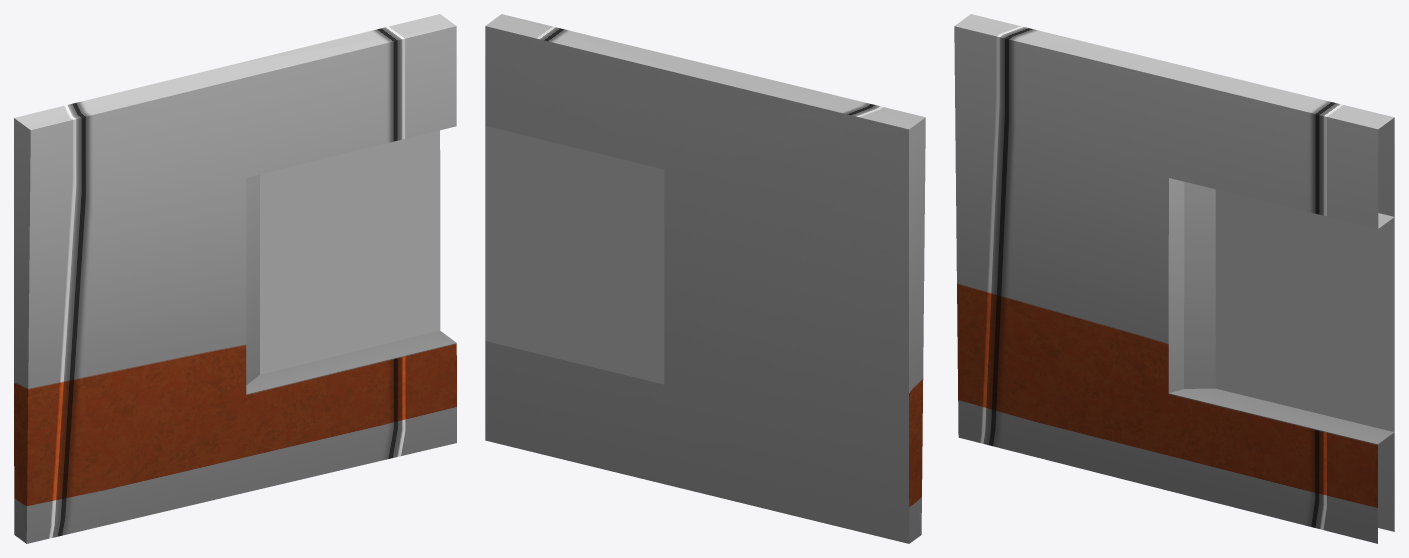
Rendered from Wall Right.fbx.
The picture shows the model from 3 angles, left to right: view 1: azimuth 30°, elevation 25°; view 2: azimuth 150°, elevation 25°; view 3: azimuth 330°, elevation 25°; orthographic projection.
Visible parts, largest first — view 1: Door_Door_Door_Door_Door_Door_Door_Door_Window_Side1_Window_; view 2: Door_Door_Door_Door_Door_Door_Door_Door_Window_Side1_Window_; view 3: Door_Door_Door_Door_Door_Door_Door_Door_Window_Side1_Window_.
Part boxes in pixels (x1=…): Door_Door_Door_Door_Door_Door_Door_Door_Window_Side1_Window_: x1=14, y1=14, x2=456, y2=543; Door_Door_Door_Door_Door_Door_Door_Door_Window_Side1_Window_: x1=485, y1=14, x2=925, y2=543; Door_Door_Door_Door_Door_Door_Door_Door_Window_Side1_Window_: x1=954, y1=14, x2=1394, y2=543.
Bounding box in the file's own units: 1028 × 961 × 70.41.
2 materials, 1 textured.
